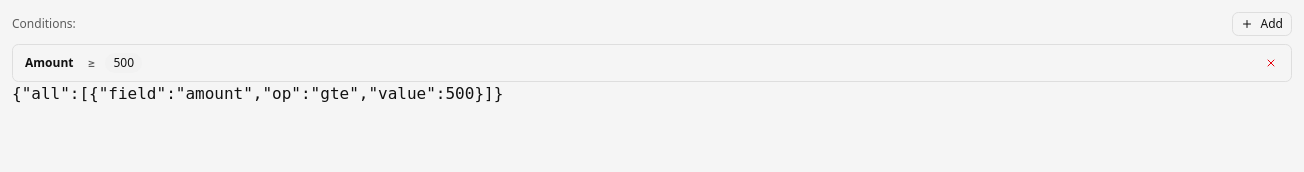
the condition bar › only offers AND/OR once there is something to combine
Click the button "Add".
click(1262, 24)  # box [1232,12,1292,36]
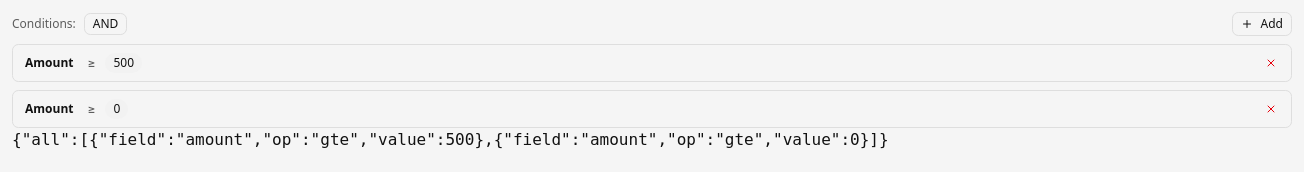
Now the button titled "Combine conditions" is shown, box [84,13,127,35]
